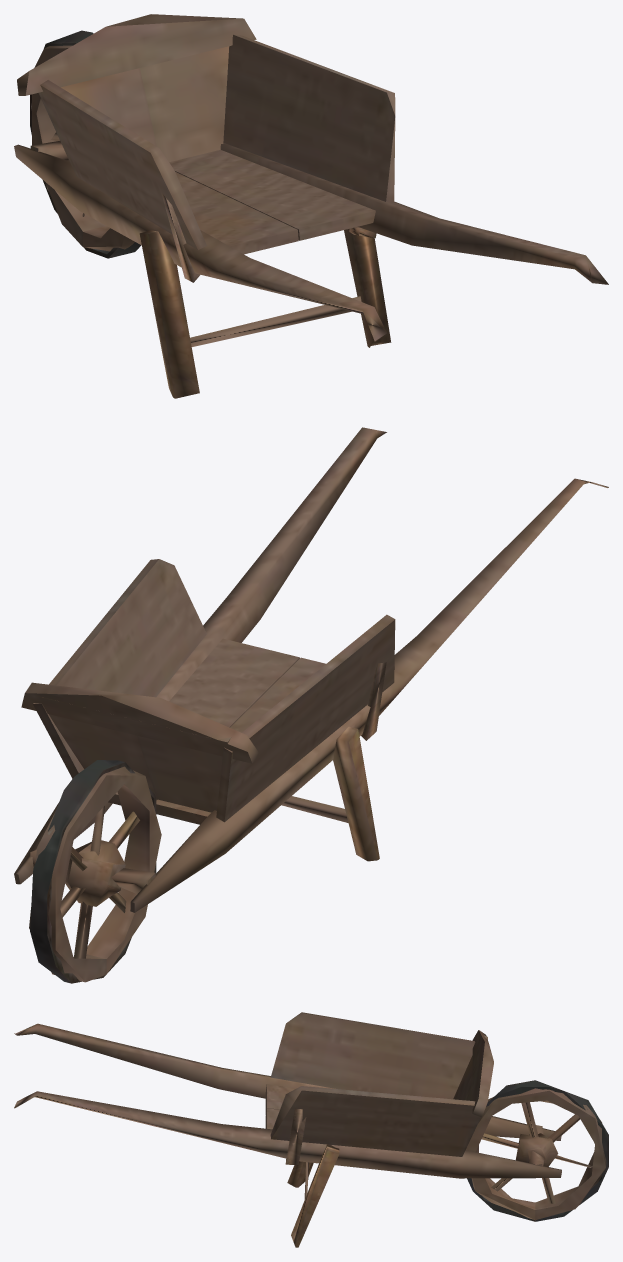
The model's file is barrow.lod0.glb.
3 views of the same model, one above another, from view 1: azimuth 30°, elevation 25°; view 2: azimuth 150°, elevation 25°; view 3: azimuth 270°, elevation 25° (orthographic). The views are drawn at different scales.
Parts seen in each view (by area): view 1: Cube.007_M_Material_0; view 2: Cube.007_M_Material_0; view 3: Cube.007_M_Material_0.
Part boxes in pixels (x1,y1,x2,y2): Cube.007_M_Material_0: (14, 14, 608, 398); Cube.007_M_Material_0: (14, 427, 608, 983); Cube.007_M_Material_0: (14, 1012, 608, 1247).
Size of the model in its own units: 0.6208 by 0.6271 by 1.99.
Materials: 1 (1 with a texture image).
